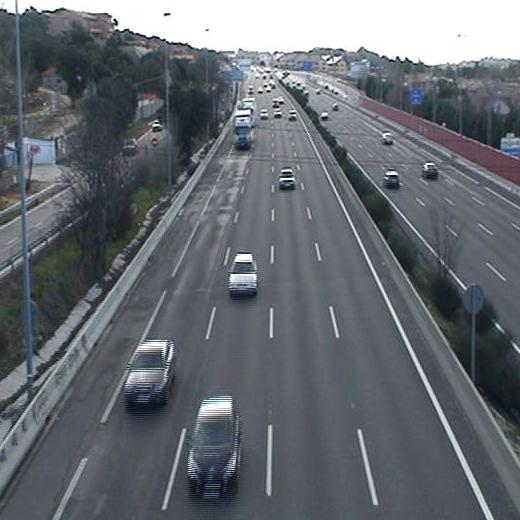car: (185, 395, 243, 501), (119, 337, 178, 408), (226, 251, 260, 296), (276, 167, 297, 187)
truck: (231, 109, 255, 150)
